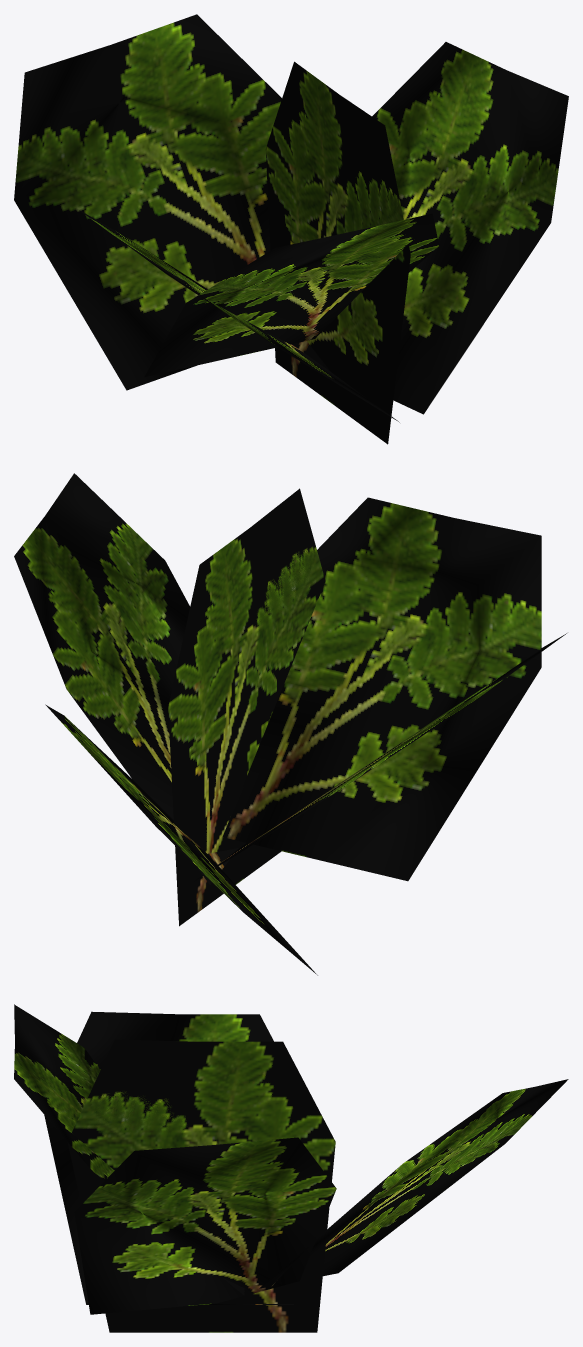
The model's file is plant01.obj.
3 renders of one model, top to bottom at view 1: azimuth 30°, elevation 25°; view 2: azimuth 150°, elevation 25°; view 3: azimuth 270°, elevation 25°, orthographic. The views are drawn at different scales.
Parts seen in each view (by area): view 1: Frame 1; view 2: Frame 1; view 3: Frame 1.
Boxes of the visible parts, x1=… form: Frame 1: x1=14, y1=14, x2=568, y2=444; Frame 1: x1=14, y1=473, x2=566, y2=975; Frame 1: x1=14, y1=1004, x2=568, y2=1332.
Size of the model in its own units: 97.18 by 69.83 by 119.
Materials: 1 (1 with a texture image).
